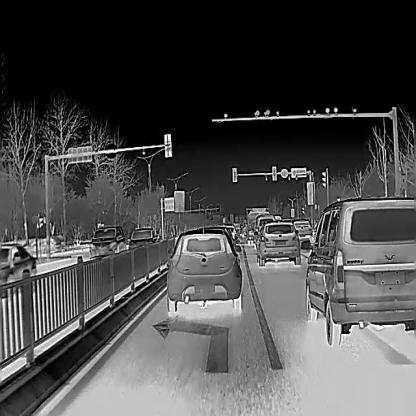car: (299, 197, 415, 346), (165, 231, 243, 312), (0, 242, 36, 296), (256, 222, 300, 266), (88, 226, 126, 260), (245, 206, 269, 244), (126, 228, 158, 248), (292, 219, 311, 247), (222, 223, 237, 239)
truck: (254, 214, 275, 248)
